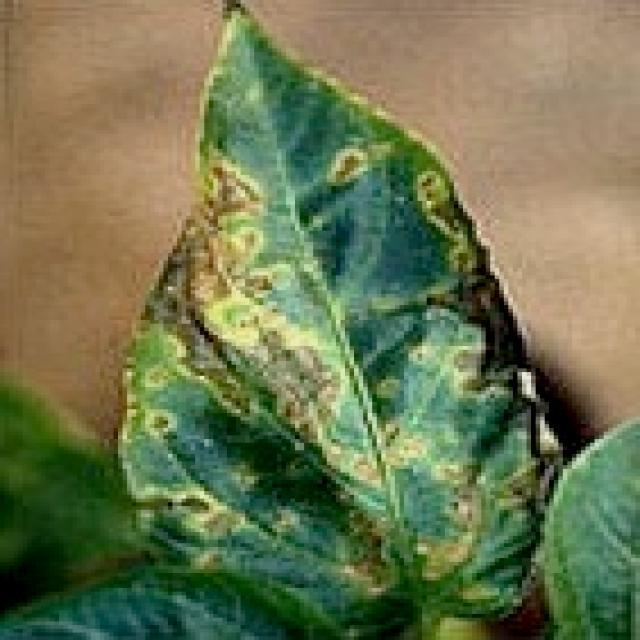Bercak Daun Serkospora: (114, 0, 560, 640)
